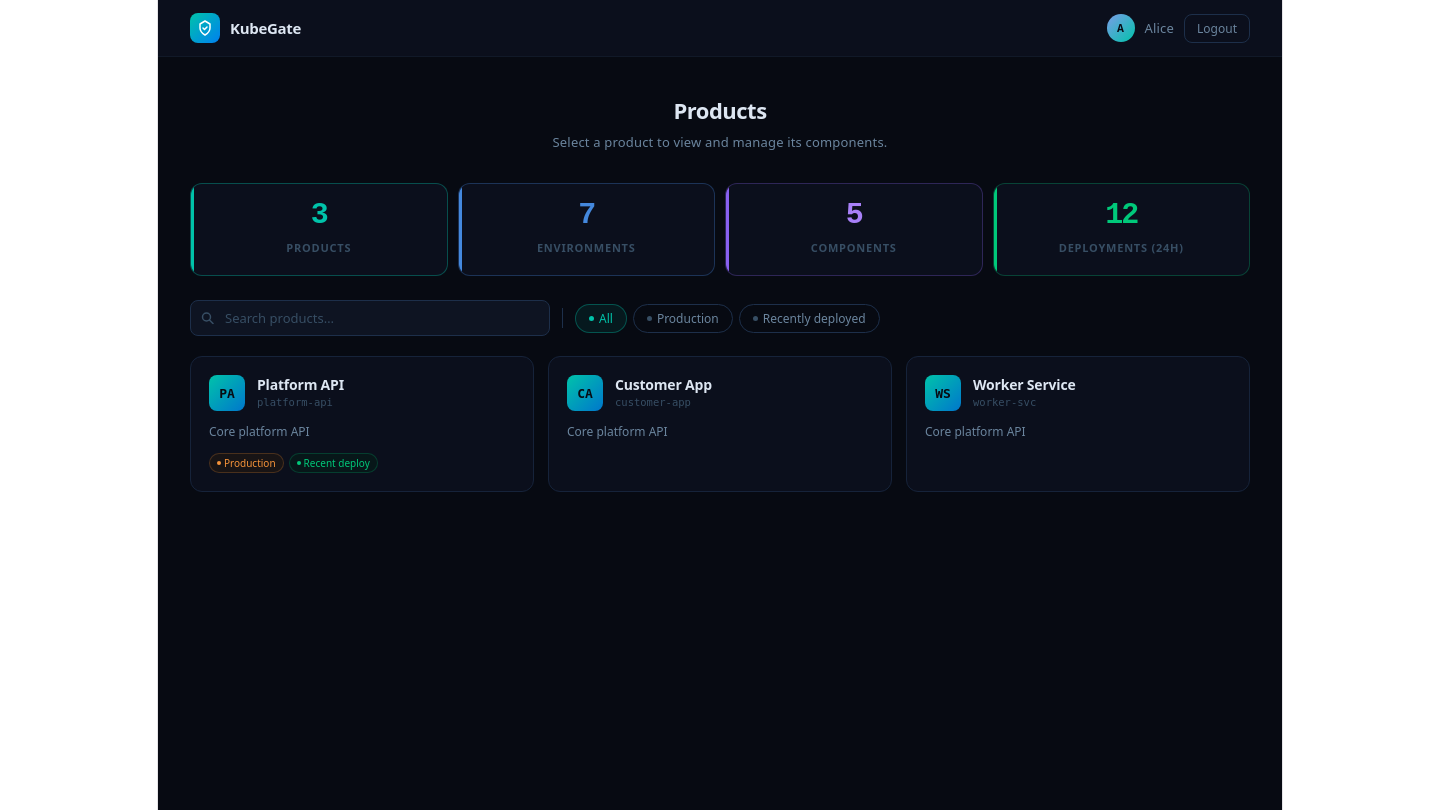
Test: Search and filter › chip Production shows only products with has_production_env=true
The image size is (1440, 810).
What coordinates should you click on to do the following:
click the button with test id "chip-production"
I would click on:
 (683, 318)
Its box is [633, 304, 733, 333].
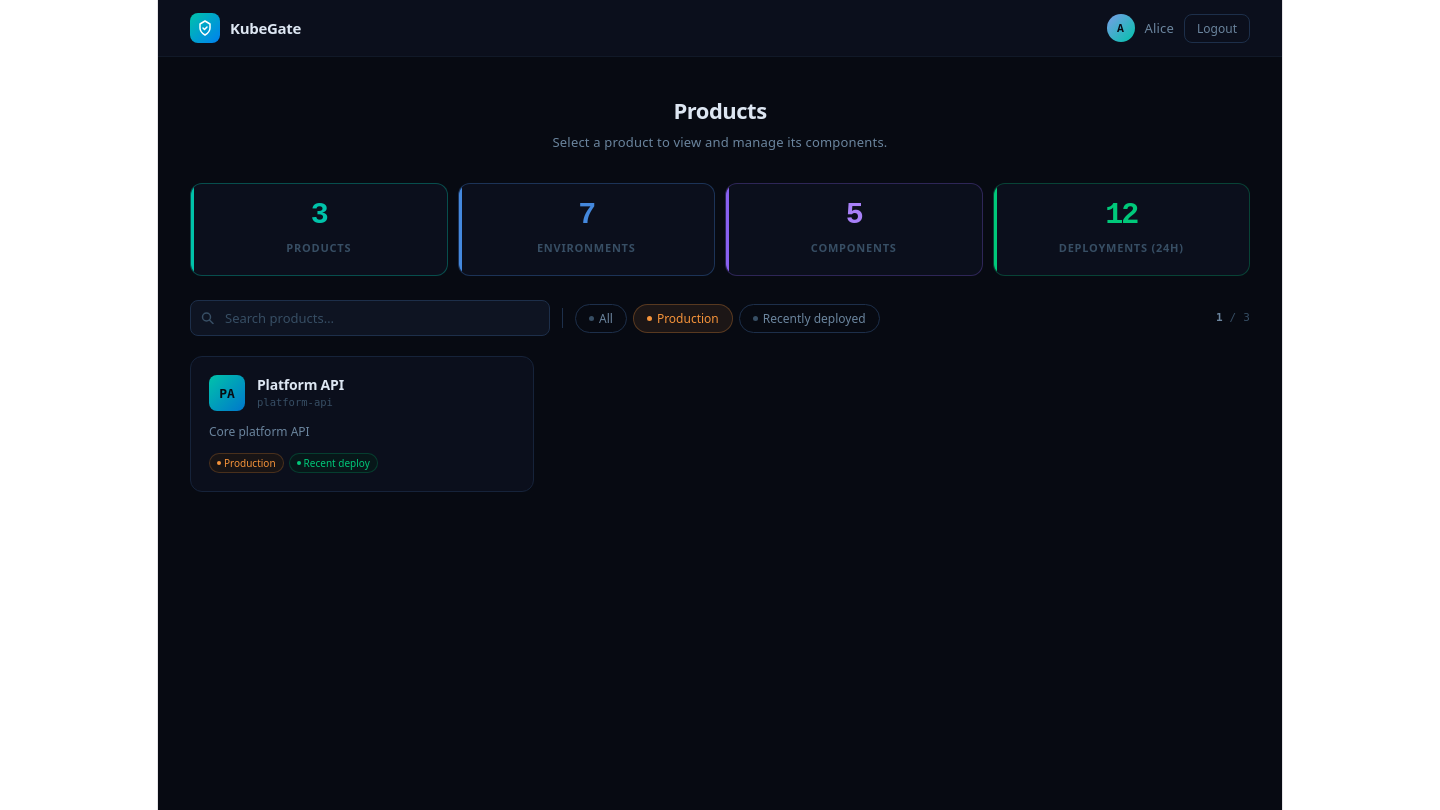
Expected: the text "Platform API" is shown, [257, 375, 344, 394]
Now the button "Customer App" is gone
Now the button "Worker Service" is gone
